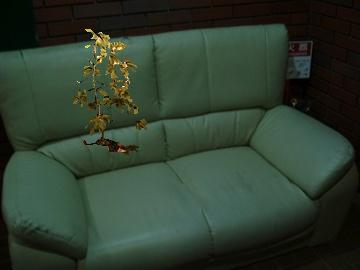tampered: (73, 30, 147, 156)
